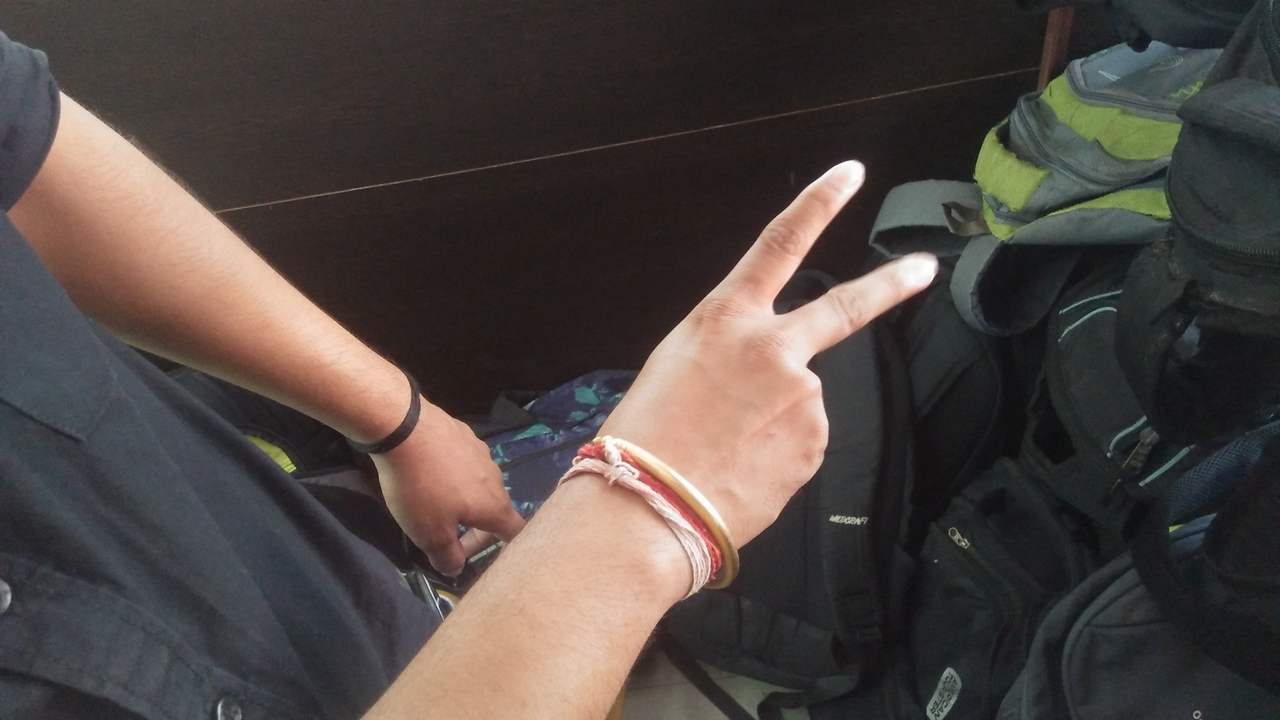fingertip: (814, 152, 871, 199), (892, 243, 941, 294)
